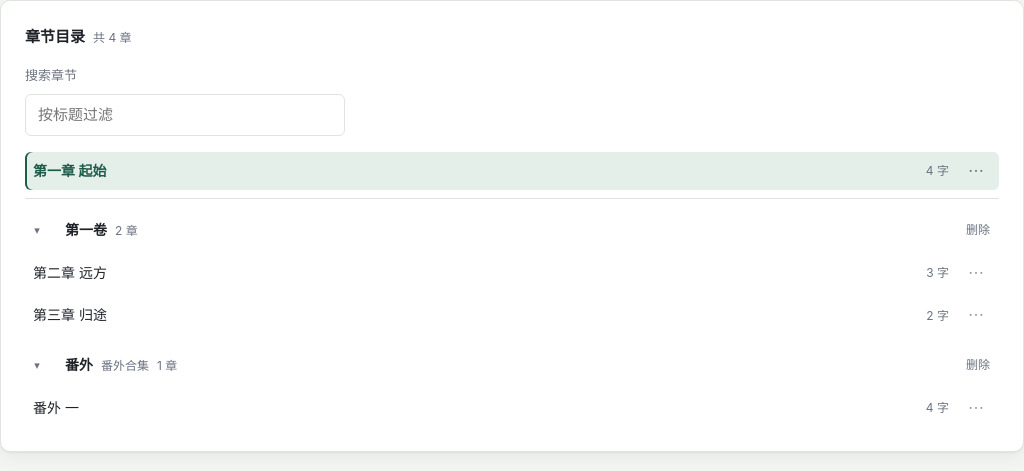
Test case: ChapterTree › disables the extra group name while searching
In the search field with test id "search": (185,115) [25,94,345,136], type "番外"
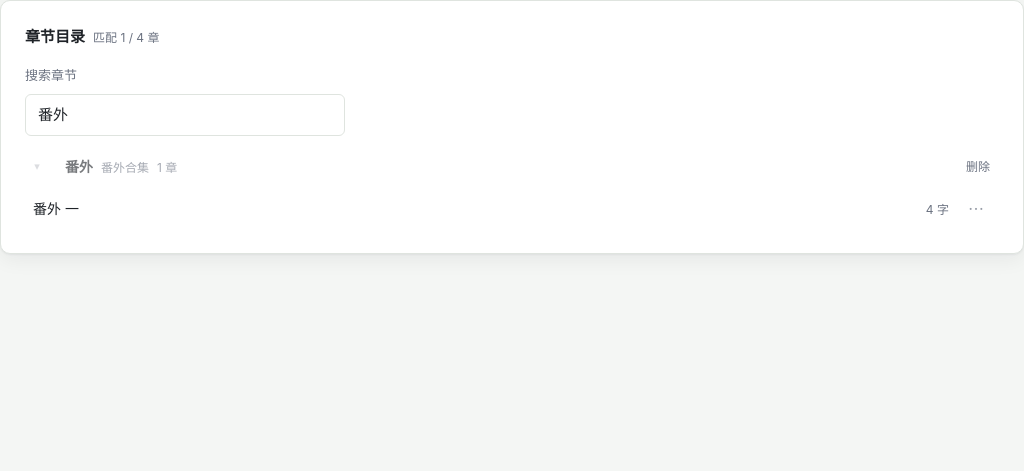
Expected: the button "番外 番外合集 1 章" is shown, [57,152,949,182]
Now the button "番外 番外合集 1 章" is disabled, box [57,152,949,182]
